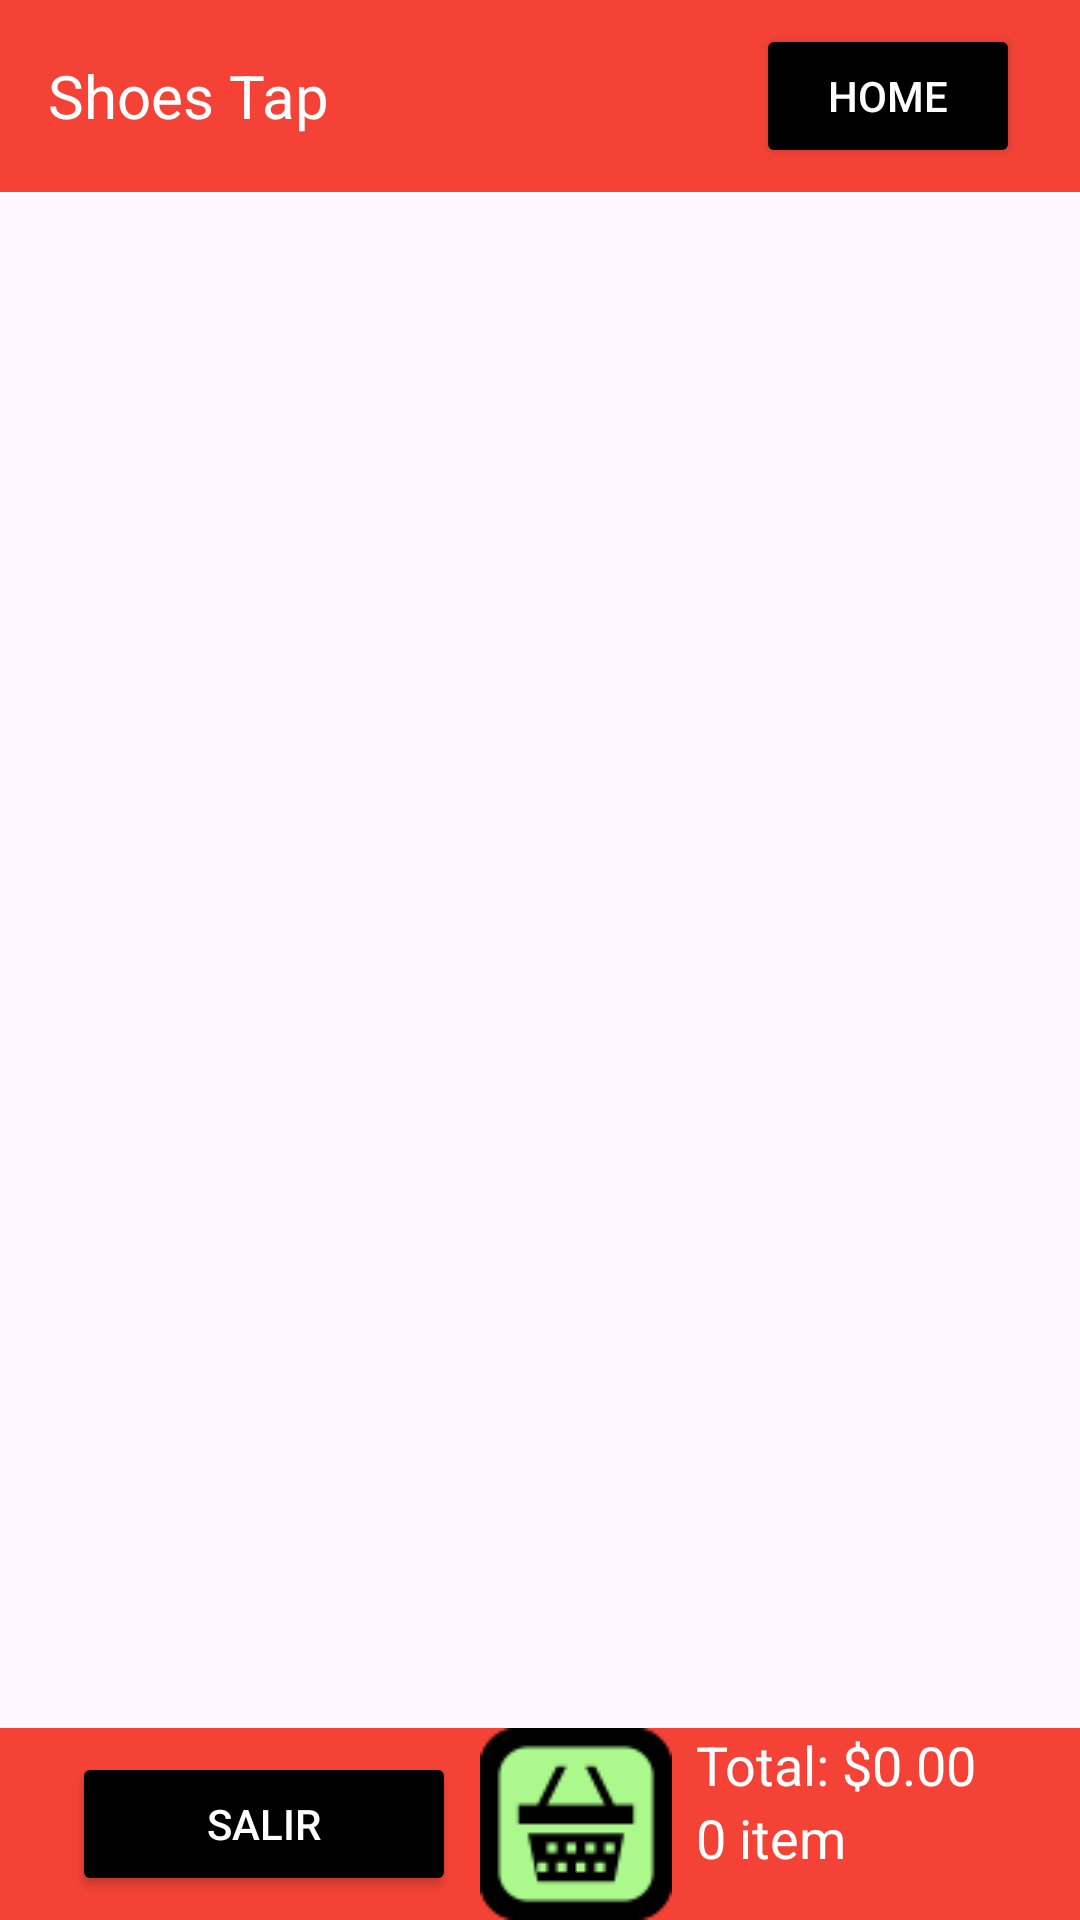

Where to tap for icons on this 1080w x 1920h app screen, as (x=x, y=y):
Carrito de compras: (x=576, y=1824)
